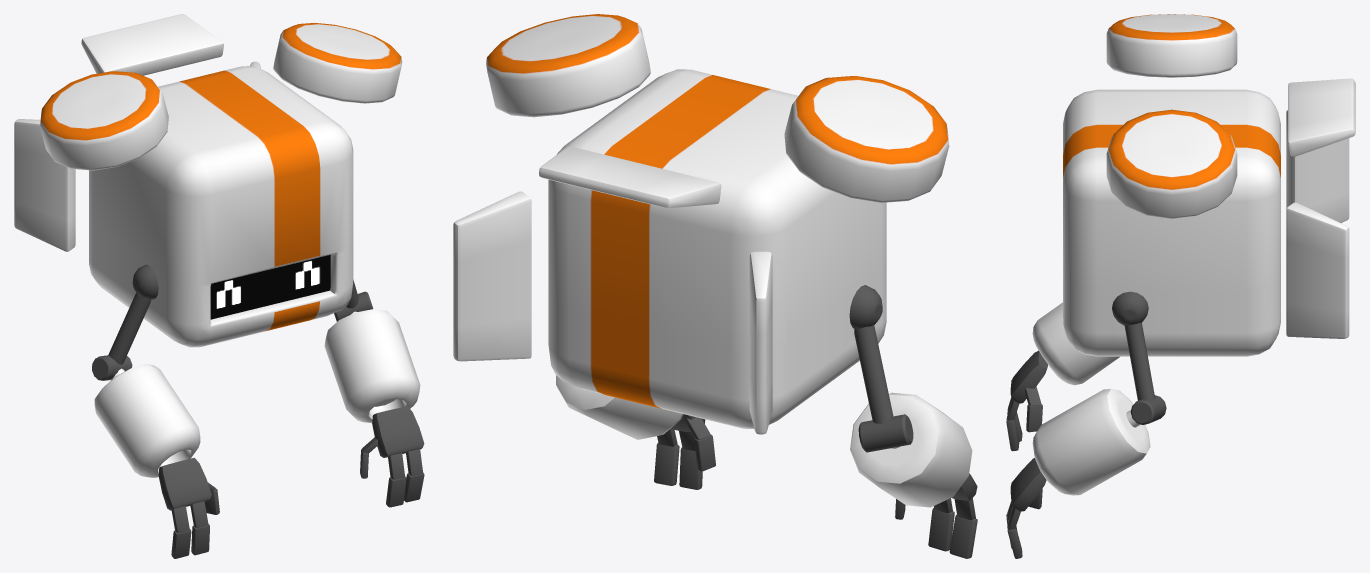
File: orange_droid.glb
3 renders of one model, left to right at view 1: azimuth 30°, elevation 25°; view 2: azimuth 150°, elevation 25°; view 3: azimuth 270°, elevation 25°, orthographic. The views are drawn at different scales.
Visible parts, largest first — view 1: orange_robot; view 2: orange_robot; view 3: orange_robot.
Boxes of the visible parts, <box> form: orange_robot: <box>14,14,424,558</box>; orange_robot: <box>453,14,977,558</box>; orange_robot: <box>1006,14,1355,558</box>.
Size of the model in its own units: 1.35 by 1.54 by 1.15.
1 material, 1 textured.
